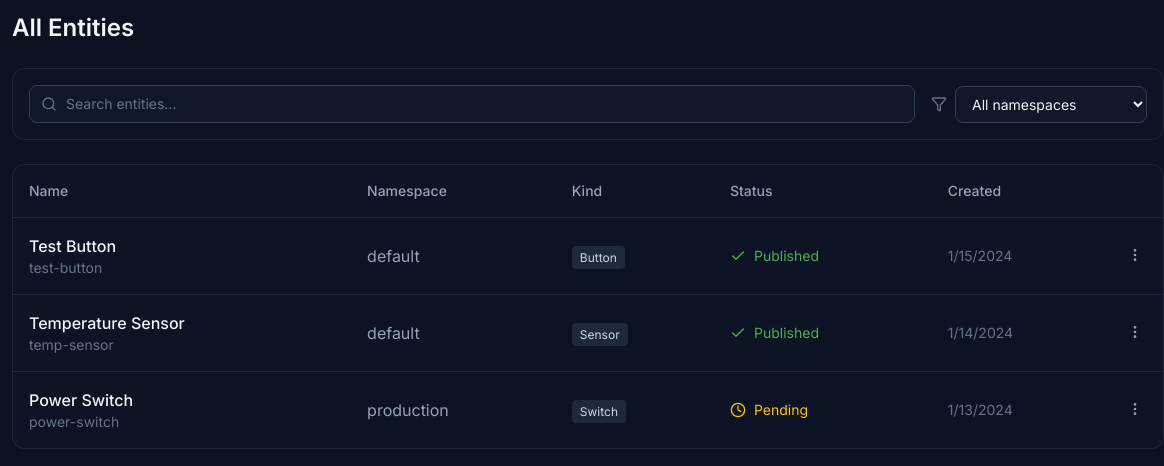
Test: EntityListPage › search functionality › shows no results message when search matches nothing
Check: the text "Test Button" is shown, box [29,236,116,256]
Type "nonexistent" into the field with placeholder "Search entities..." at (472, 104), box [29,85,915,123]
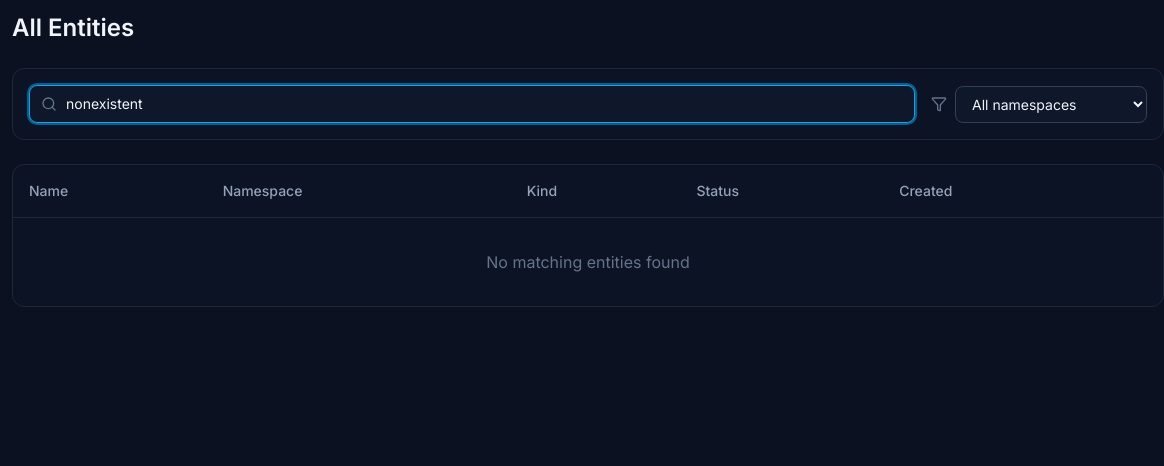
Check: the text "No matching entities found" is shown, box [13,218,1163,306]
